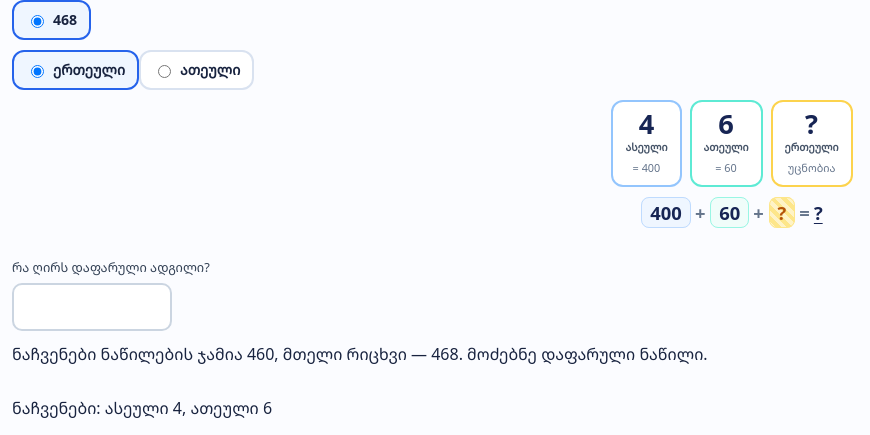
Test case: tools: the missing-place lab › hides a place and checks the value that fills it
The width and height of the screenshot is (870, 435).
In the field: (92, 307) [12,283,172,331], type "8"
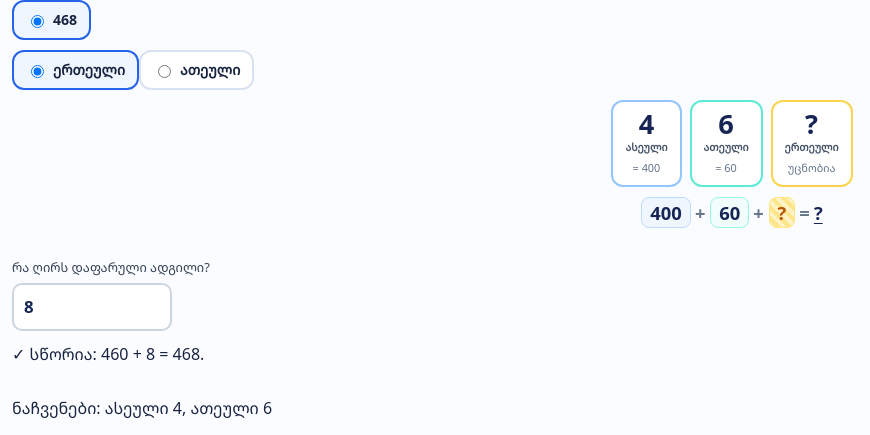
Expected: the message with class "lab-status" shows "სწორია", [12,344,204,366]
Replace the text in the field with "80": (92, 307) [12,283,172,331]
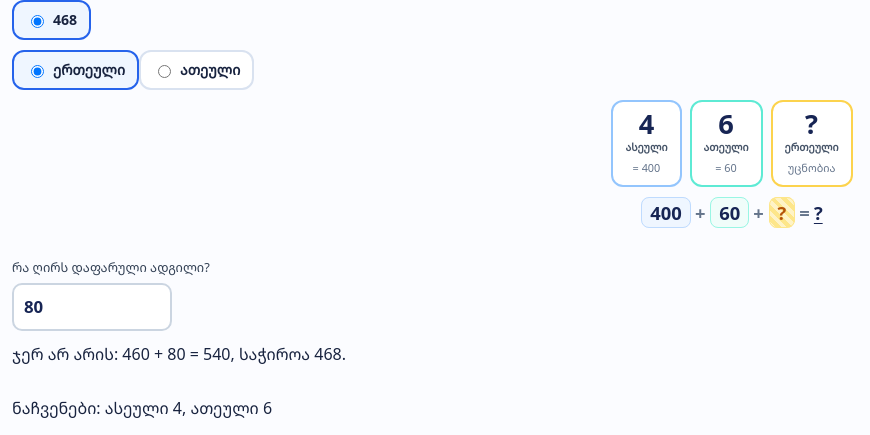
Expected: the message with class "lab-status" shows "ჯერ არ არის", [12,344,346,366]
